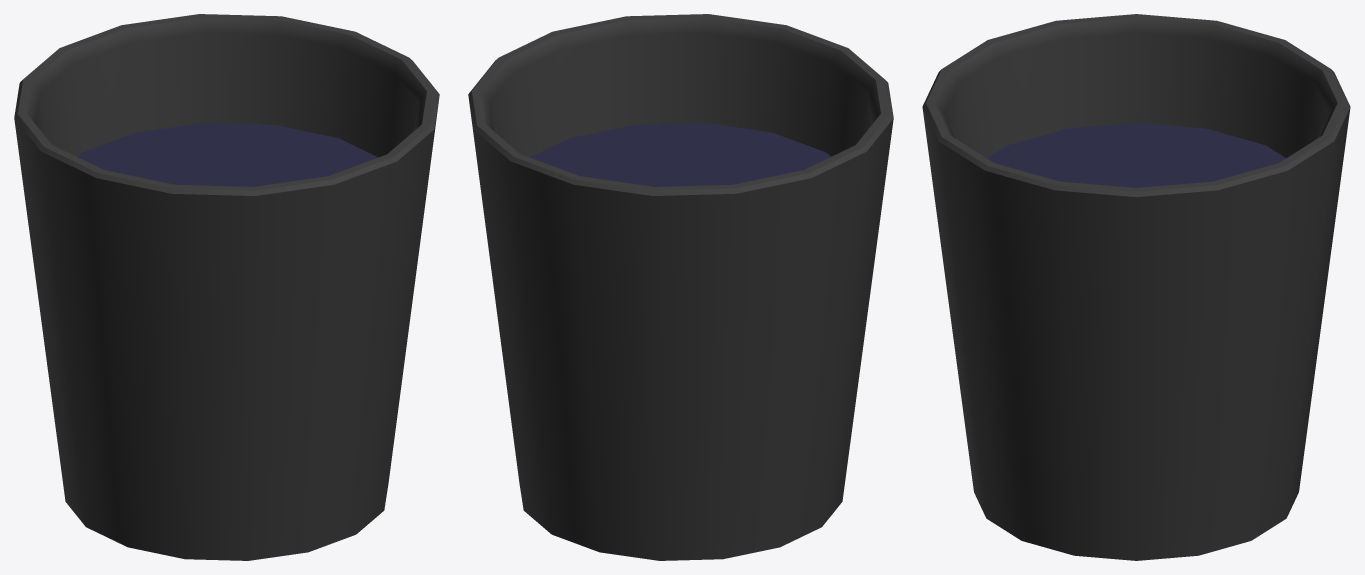
Rendered from galleda1.fbx.
The picture shows the model from 3 angles, left to right: view 1: azimuth 30°, elevation 25°; view 2: azimuth 150°, elevation 25°; view 3: azimuth 270°, elevation 25°; orthographic projection.
Parts seen in each view (by area): view 1: galleda1; view 2: galleda1; view 3: galleda1.
Boxes of the visible parts, bbox=[...] form: galleda1: bbox=[14, 14, 439, 560]; galleda1: bbox=[468, 14, 893, 560]; galleda1: bbox=[922, 14, 1350, 560].
Bounding box in the file's own units: 72.88 × 73.13 × 72.88.
